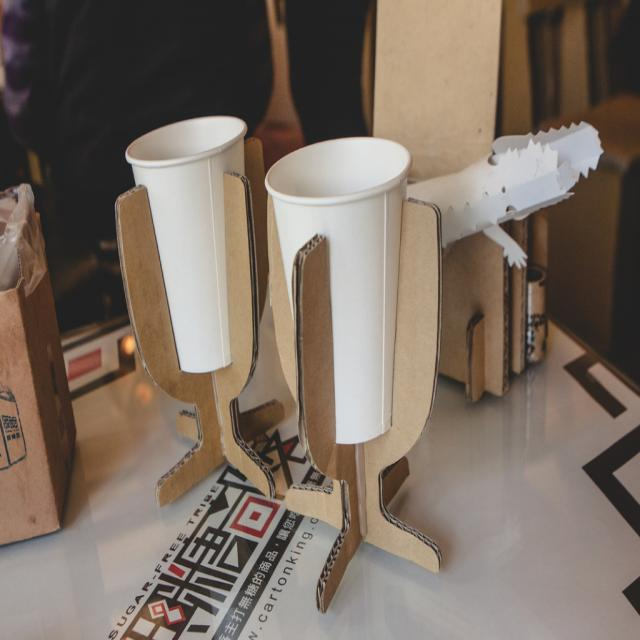Box: (1, 197, 76, 543)
